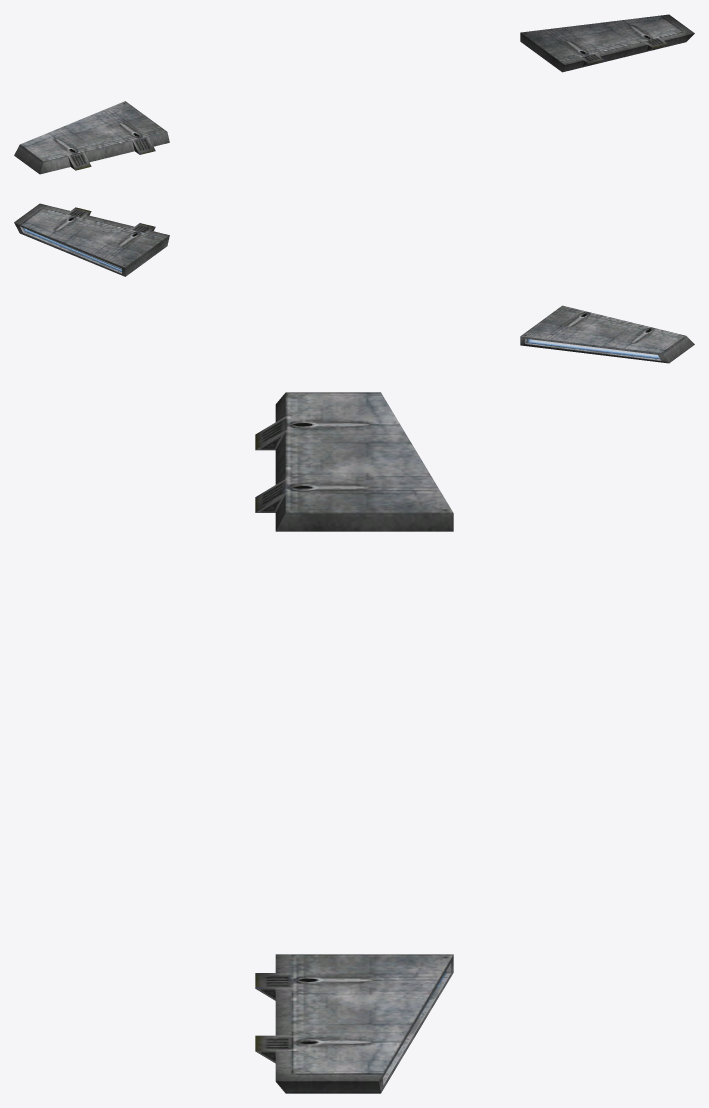
The model's file is xwing_booster_pos_s02_l1.fbx.
3 renders of one model, top to bottom at view 1: azimuth 30°, elevation 25°; view 2: azimuth 150°, elevation 25°; view 3: azimuth 270°, elevation 25°, orthographic. The views are drawn at different scales.
Visible parts, largest first — view 1: mesh_node; view 2: mesh_node; view 3: mesh_node.
Part boxes in pixels (x1=…): mesh_node: x1=14, y1=14, x2=694, y2=174; mesh_node: x1=14, y1=203, x2=694, y2=363; mesh_node: x1=255, y1=392, x2=453, y2=1093.
Bounding box in the file's own units: 10.21 × 0.551 × 1.34.
Materials: 1 (1 with a texture image).
